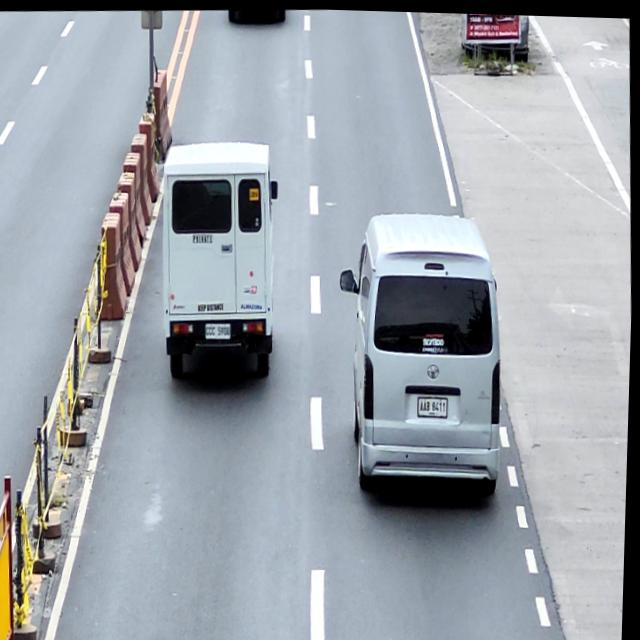Car: (334, 206, 512, 497), (155, 136, 287, 380)
License-Plate: (419, 394, 450, 416), (206, 321, 233, 338)
